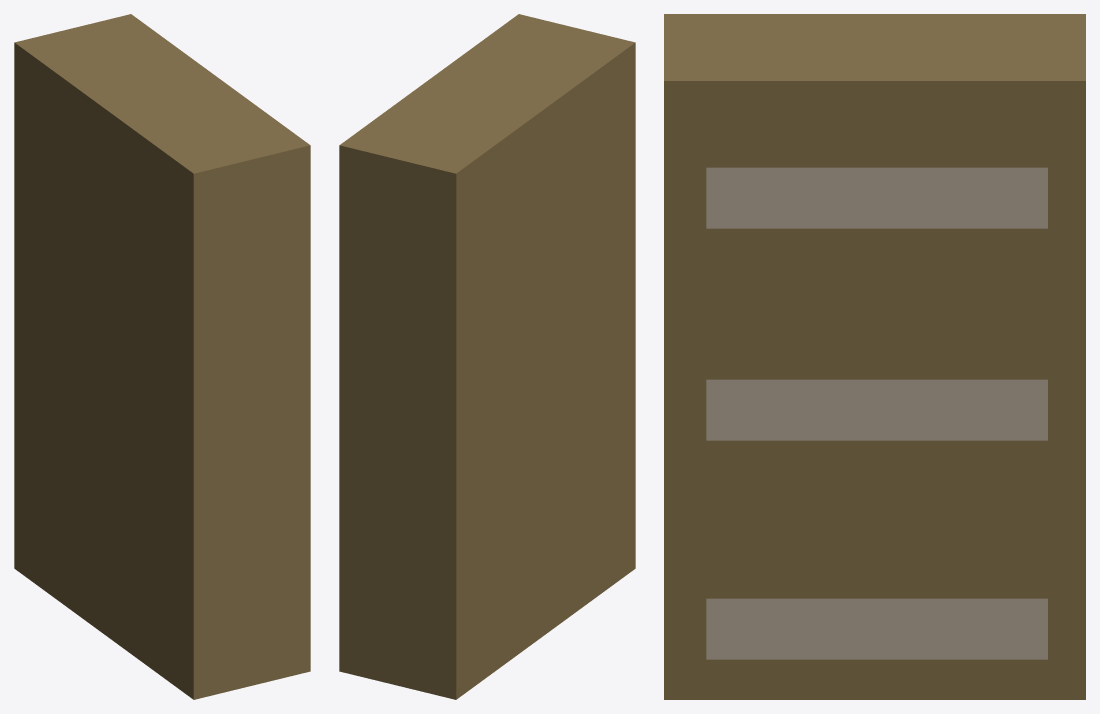
File: BookShelf.fbx
3 renders of one model, left to right at view 1: azimuth 30°, elevation 25°; view 2: azimuth 150°, elevation 25°; view 3: azimuth 270°, elevation 25°, orthographic. The views are drawn at different scales.
Parts seen in each view (by area): view 1: pCube2; view 2: pCube2; view 3: pCube2.
Part boxes in pixels (x1=…): pCube2: x1=14, y1=14, x2=310, y2=699; pCube2: x1=339, y1=14, x2=635, y2=699; pCube2: x1=664, y1=14, x2=1085, y2=699.
Size of the model in its own units: 2.25 by 9.67 by 5.98.
